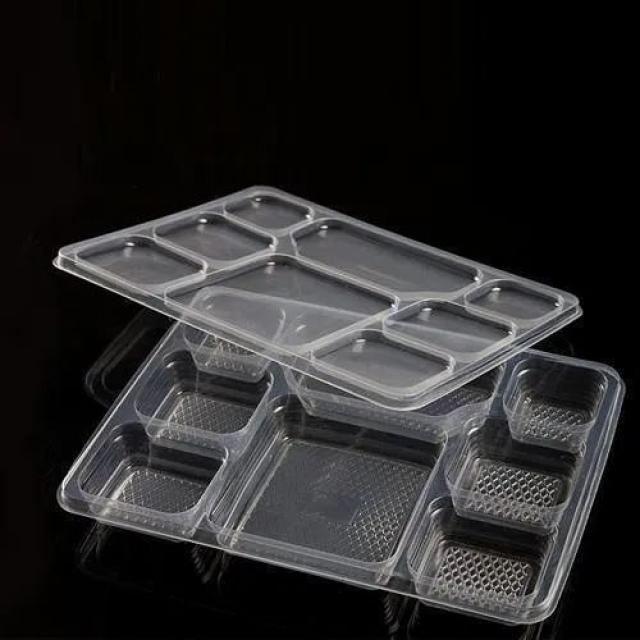plastic_box: (16, 166, 605, 412)
